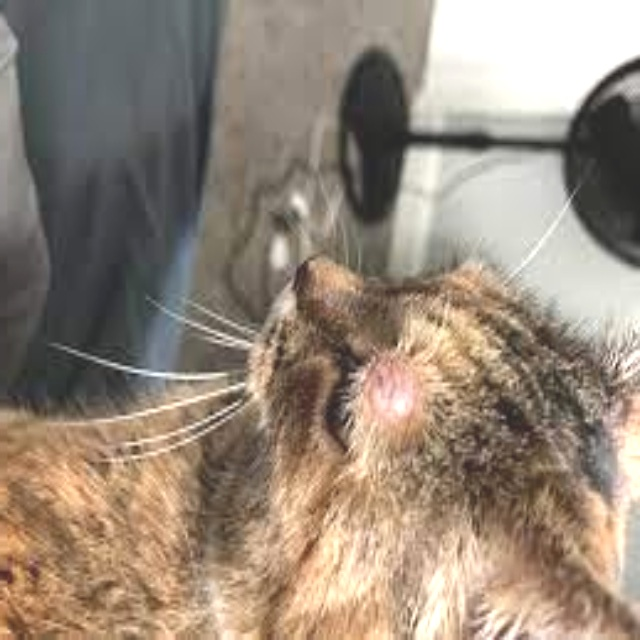lump_and_bump: (358, 343, 428, 425)
